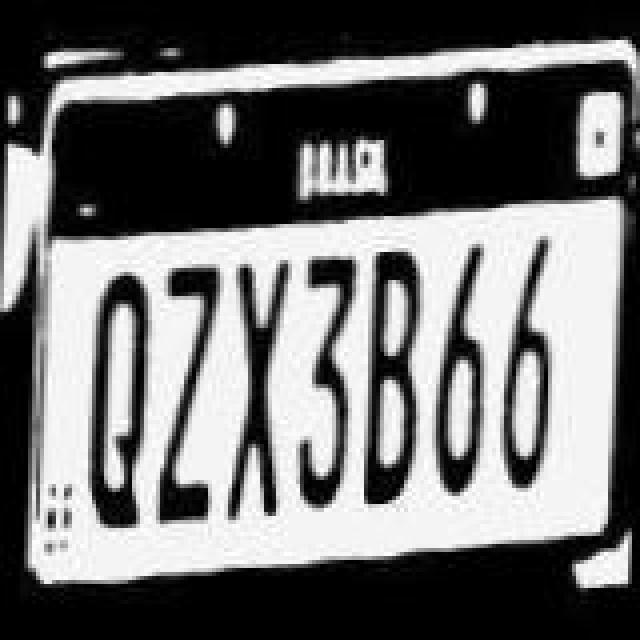3: (292, 246, 356, 506)
6: (430, 240, 490, 496), (494, 234, 554, 486)
B: (360, 248, 424, 508)
Q: (82, 270, 150, 530)
X: (220, 256, 292, 524)
Z: (154, 264, 222, 528)
